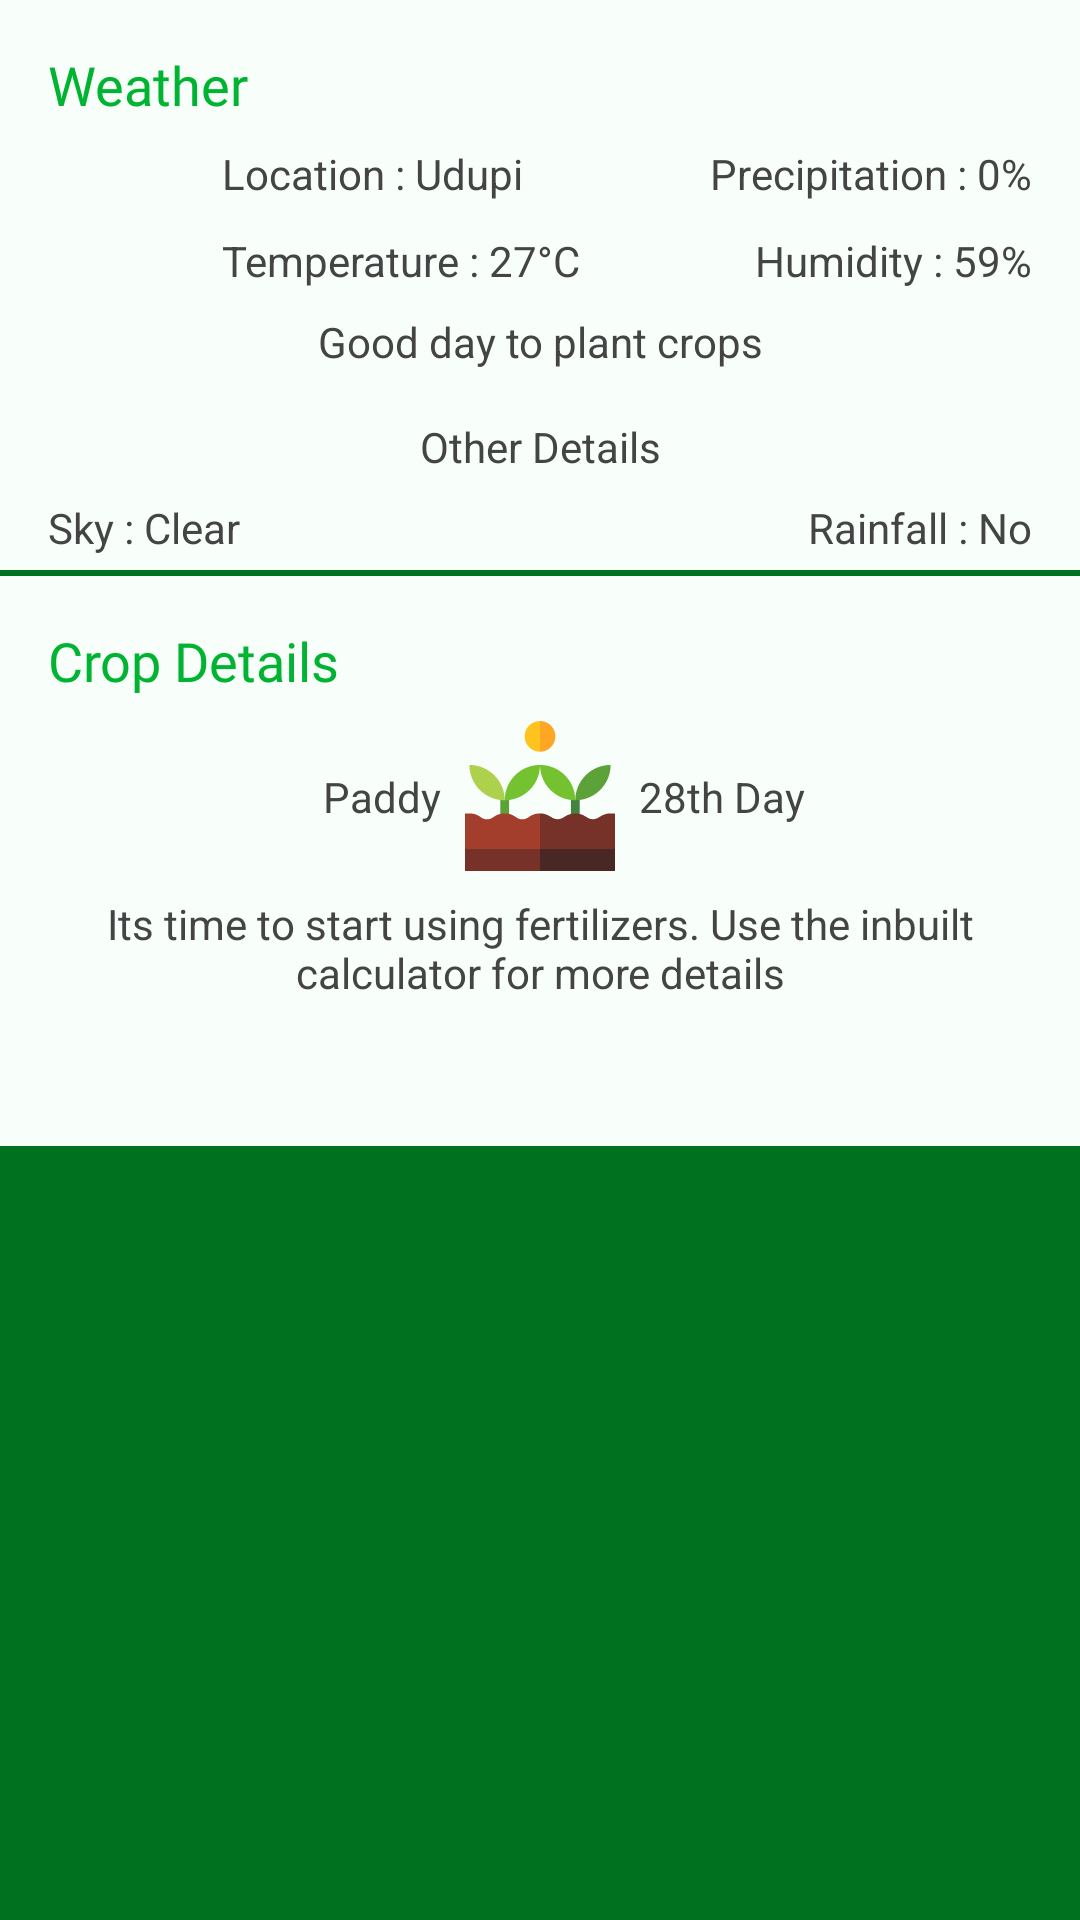

Where icons sit on this 1080x1920 app screen, as (x1, y1, x2, y2):
plant: (465, 721, 615, 871)
